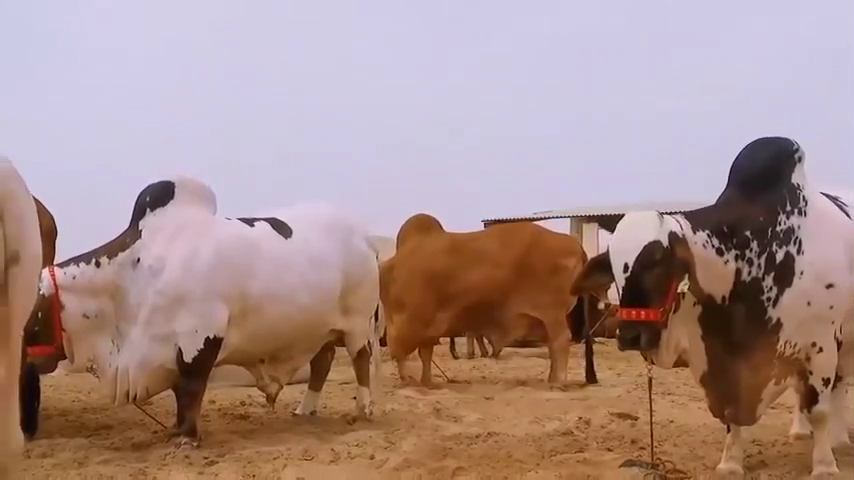bo: (17, 168, 384, 456), (563, 125, 854, 479), (364, 200, 602, 401)
